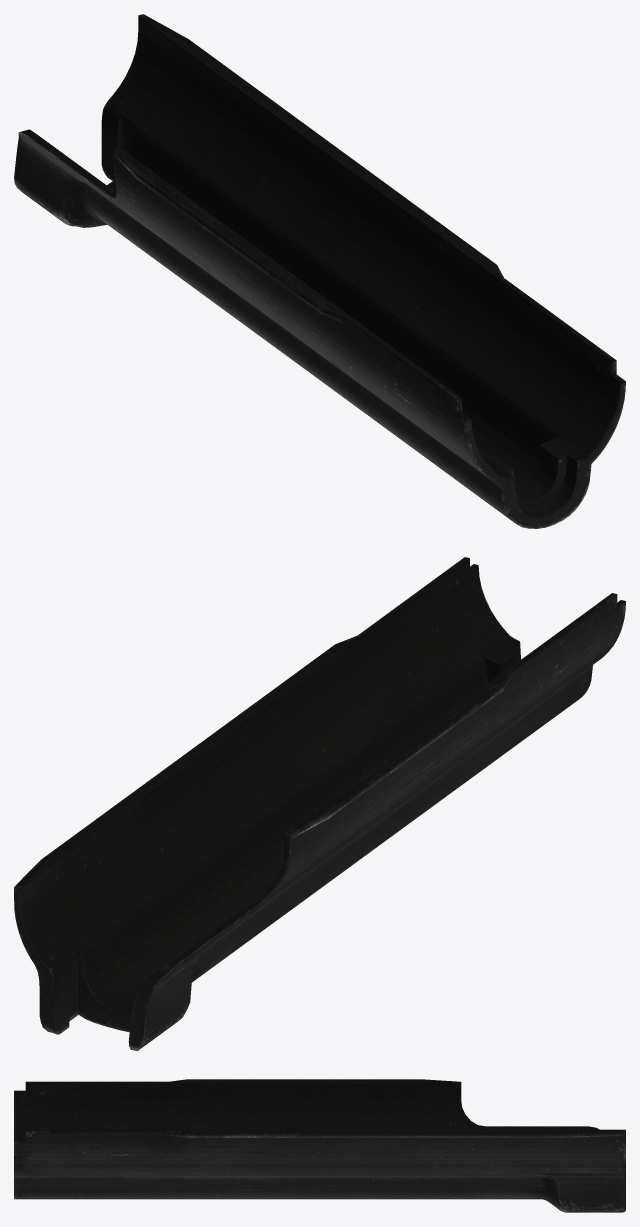
3 renders of one model, top to bottom at view 1: azimuth 30°, elevation 25°; view 2: azimuth 150°, elevation 25°; view 3: azimuth 270°, elevation 25°, orthographic. The views are drawn at different scales.
Visible parts, largest first — view 1: TW_64119cdbdcf48d656f0aa272_PZ_Import; view 2: TW_64119cdbdcf48d656f0aa272_PZ_Import; view 3: TW_64119cdbdcf48d656f0aa272_PZ_Import.
Part boxes in pixels (left/top/right/bottom): TW_64119cdbdcf48d656f0aa272_PZ_Import: left=14, top=14, right=625, bottom=528; TW_64119cdbdcf48d656f0aa272_PZ_Import: left=14, top=557, right=625, bottom=1050; TW_64119cdbdcf48d656f0aa272_PZ_Import: left=14, top=1079, right=625, bottom=1212.
Size of the model in its own units: 0.0178 by 0.0845 by 0.0147.
Materials: 1 (1 with a texture image).
